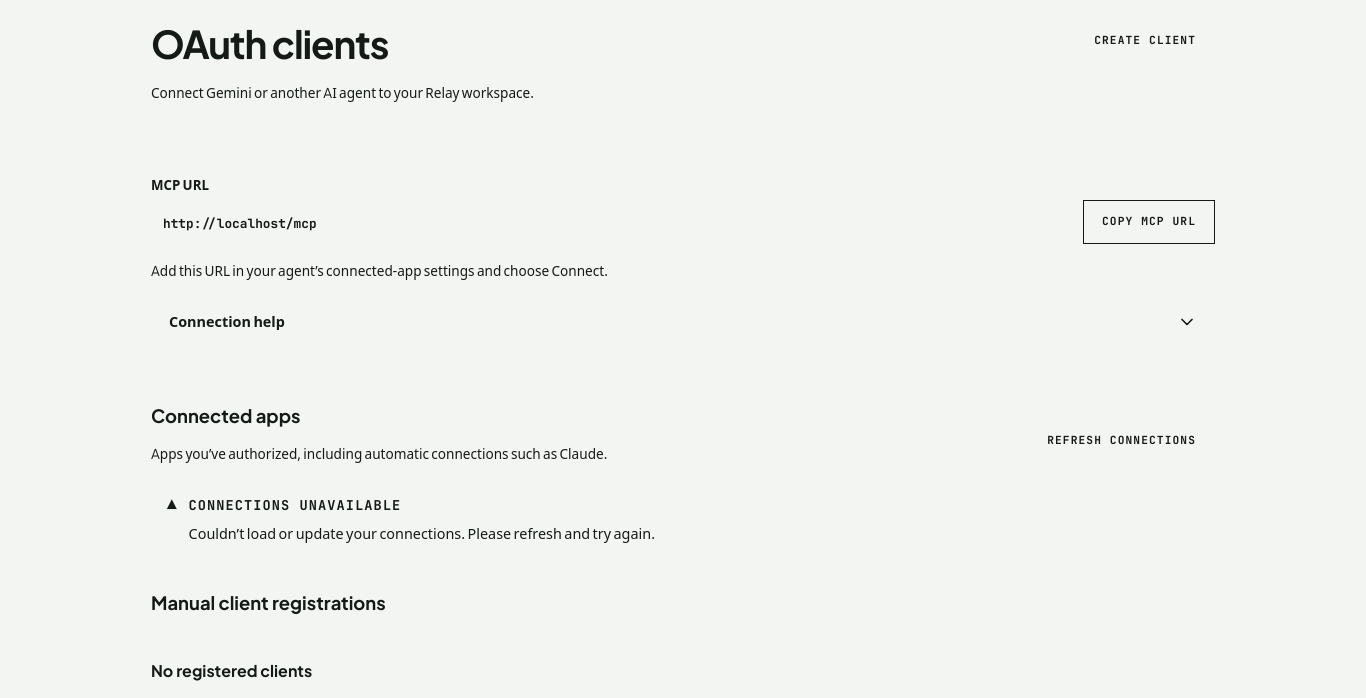
Scenario: creates an agent with explicit permissions and displays the secret only until acknowledged
Expected: the heading "No registered clients" is shown, [151,660,312,681]
Click the button "Create client": (1145, 41) [1075,19,1215,63]
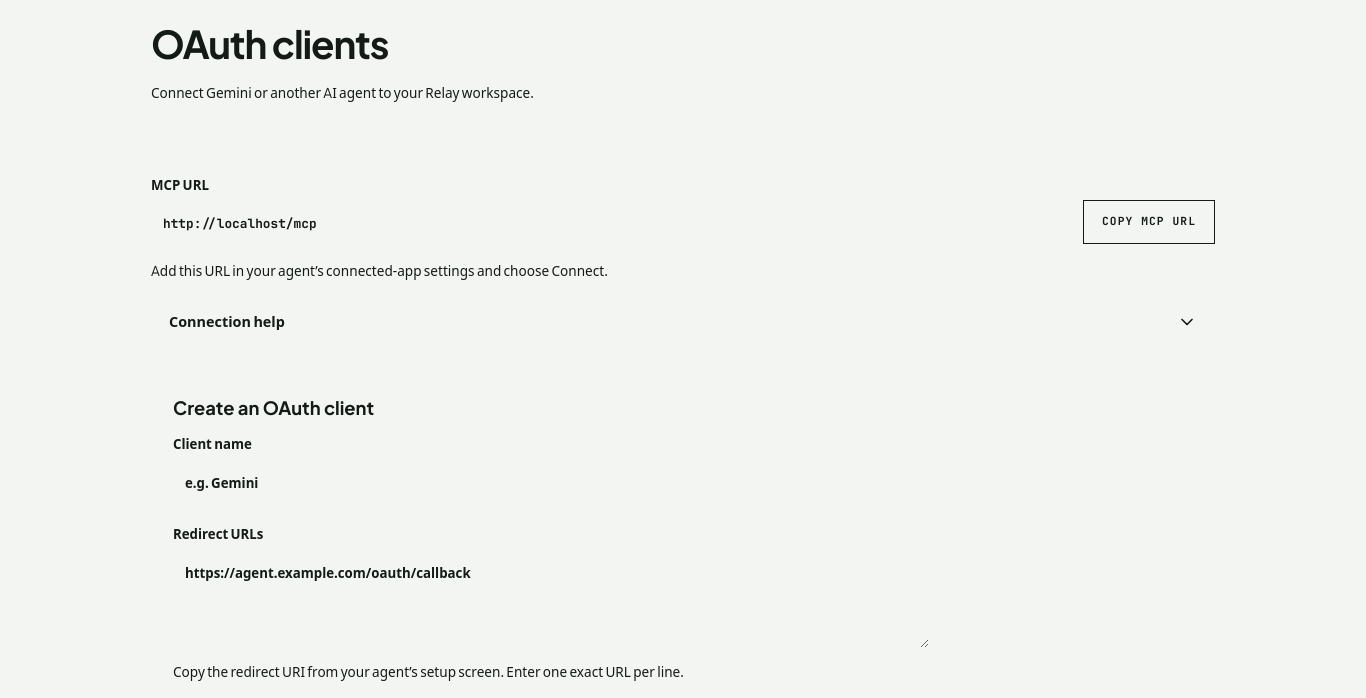
In the field labelled "Client name": (551, 482) [173,462,929,503], type "My agent"
In the text box labelled "Redirect URLs": (551, 600) [173,552,929,648], type "https://agent.example.test/callback"
(page scrolled)
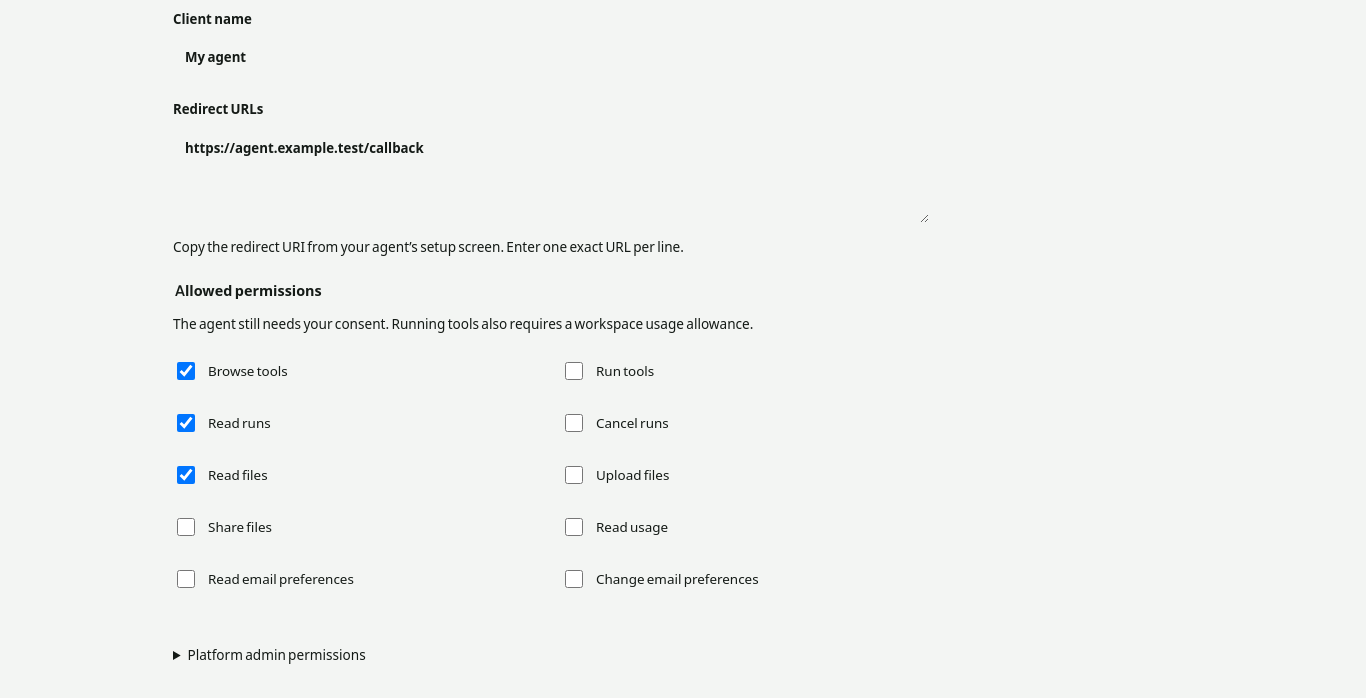
Now the checkbox labelled "Run tools" is not checked
Click the checkbox labelled "Run tools": (574, 371) [565,362,583,380]
(page scrolled)
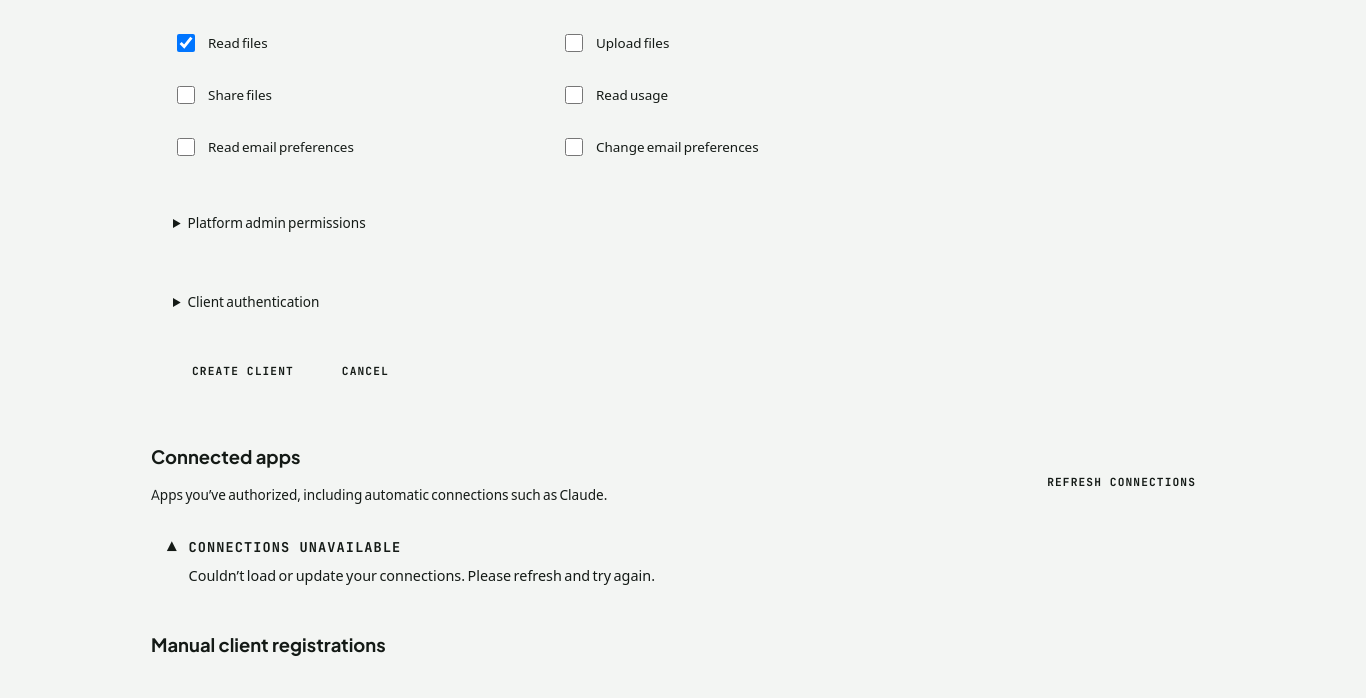
Click the button "Create client": (243, 371) [173,349,313,393]
(page scrolled)
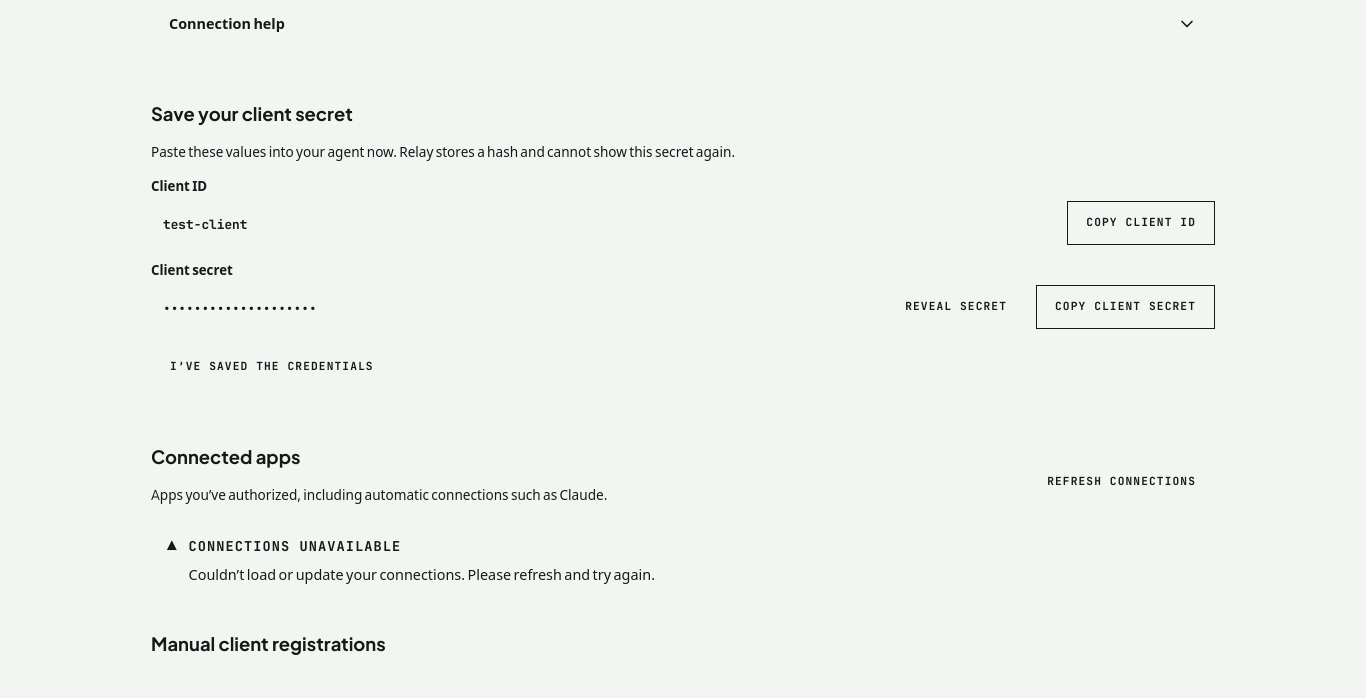
Now the heading "Save your client secret" is shown, box [151,102,353,125]
Now the password field labelled "Client secret" hides its text, box [151,288,870,329]
Click the button "Reveal secret": (956, 307) [886,285,1026,329]
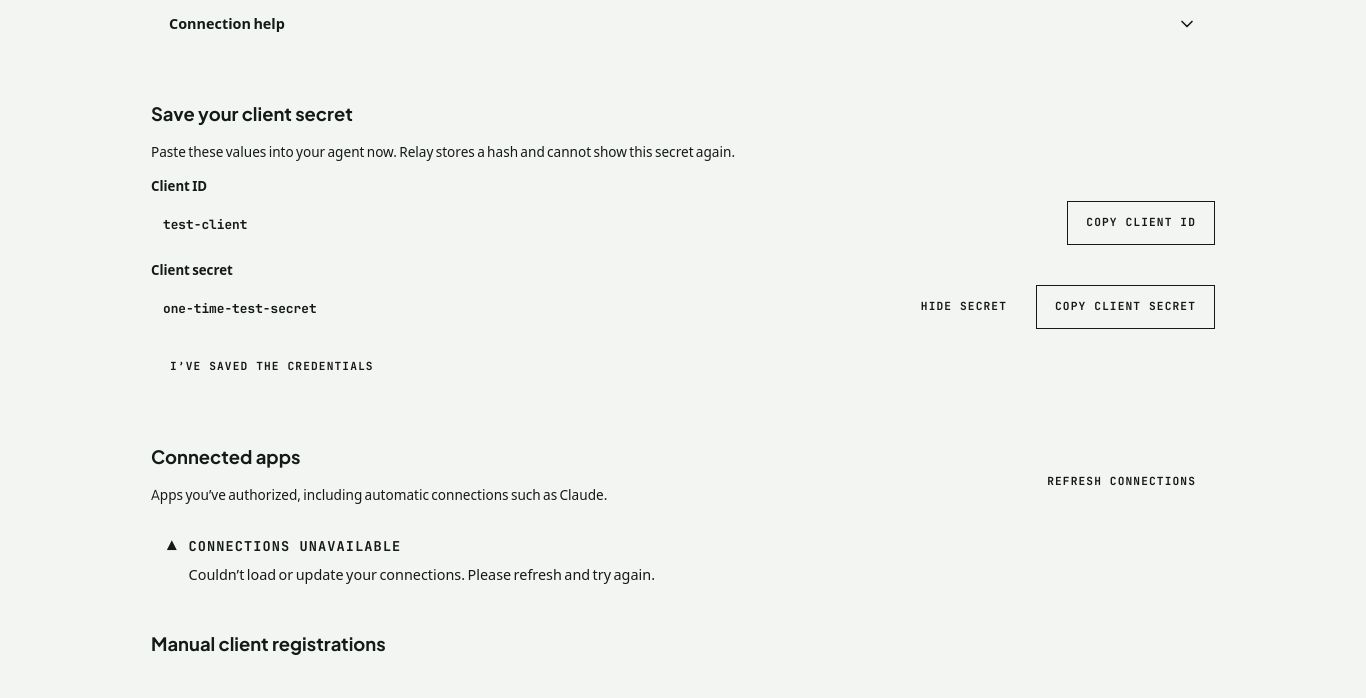
Now the field labelled "Client secret" holds "one-time-test-secret", box [151,288,886,329]
Click the button "I’ve saved the credentials": (272, 367) [151,345,393,389]
(page scrolled)
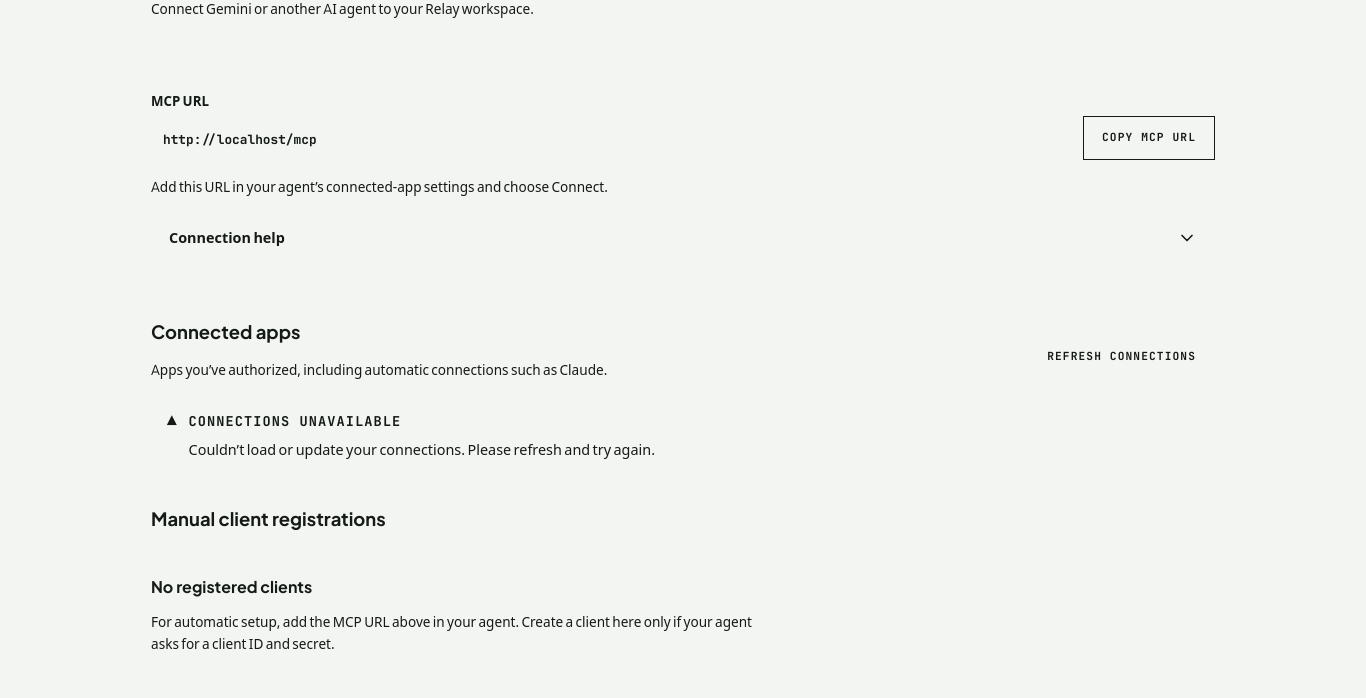
Now the heading labelled "client secret" is gone
